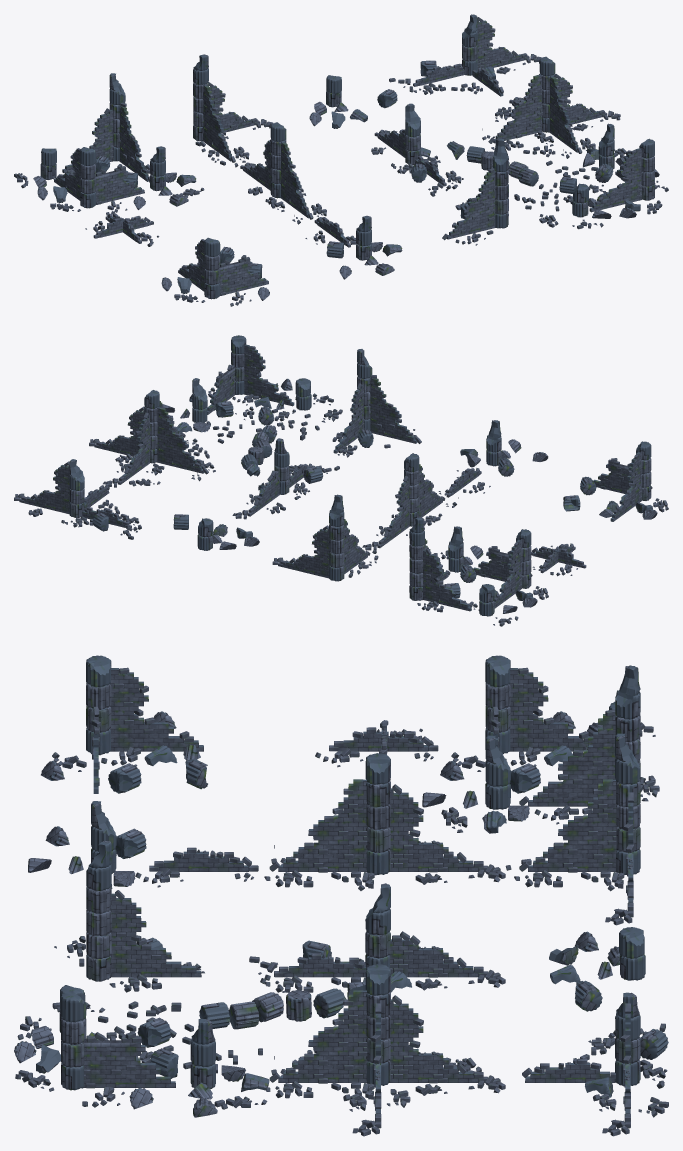
The model's file is AncientRuin.gltf.
The picture shows the model from 3 angles, top to bottom: view 1: azimuth 30°, elevation 25°; view 2: azimuth 150°, elevation 25°; view 3: azimuth 270°, elevation 25°; orthographic projection. The views are drawn at different scales.
Visible parts, largest first — view 1: Pilar7, Bricks1, Walls10, Wall2, Walls1, Walls12, Wall7, Wall8, Walls6, Walls3, Wall5, Walls11; view 2: Pilar7, Bricks1, Wall2, Walls10, Walls6, Walls3, Wall7, Walls1, Walls12, Wall8, Wall5, Walls11; view 3: Pilar7, Bricks1, Wall2, Walls10, Wall8, Wall7, Walls12, Walls6, Walls3, Wall5, Walls1, Wall9 (+1 smaller).
Boxes of the visible parts, box(x1,y1,x2,y2) form: Pilar7: box(33, 14, 659, 300); Bricks1: box(14, 17, 668, 306); Walls10: box(54, 106, 148, 204); Wall2: box(493, 74, 602, 152); Walls1: box(419, 20, 524, 96); Walls12: box(178, 240, 268, 295); Wall7: box(202, 84, 254, 161); Wall8: box(246, 140, 309, 218); Walls6: box(446, 171, 495, 239); Walls3: box(589, 148, 642, 212); Wall5: box(380, 130, 441, 183); Walls11: box(100, 216, 148, 241); Pilar7: box(69, 335, 657, 616); Bricks1: box(14, 346, 668, 626); Wall2: box(99, 401, 204, 482); Walls10: box(422, 538, 521, 611); Walls6: box(333, 377, 417, 453); Walls3: box(207, 344, 294, 414); Wall7: box(283, 519, 367, 578); Walls1: box(24, 464, 125, 527); Walls12: box(593, 452, 641, 521); Wall8: box(381, 464, 442, 545); Wall5: box(252, 466, 309, 513); Walls11: box(533, 546, 580, 570); Pilar7: box(14, 655, 668, 1117); Bricks1: box(15, 667, 668, 1136); Wall2: box(278, 990, 478, 1113); Walls10: box(493, 668, 616, 806); Wall8: box(278, 779, 478, 871); Wall7: box(528, 779, 633, 902); Walls12: box(93, 668, 203, 793); Walls6: box(110, 893, 201, 977); Walls3: box(82, 1040, 175, 1087); Wall5: box(283, 939, 478, 977); Walls1: box(525, 1013, 630, 1113); Wall9: box(159, 851, 248, 871).
Size of the model in its own units: 19.44 by 3.08 by 13.12.
Materials: 2 (2 with a texture image).
